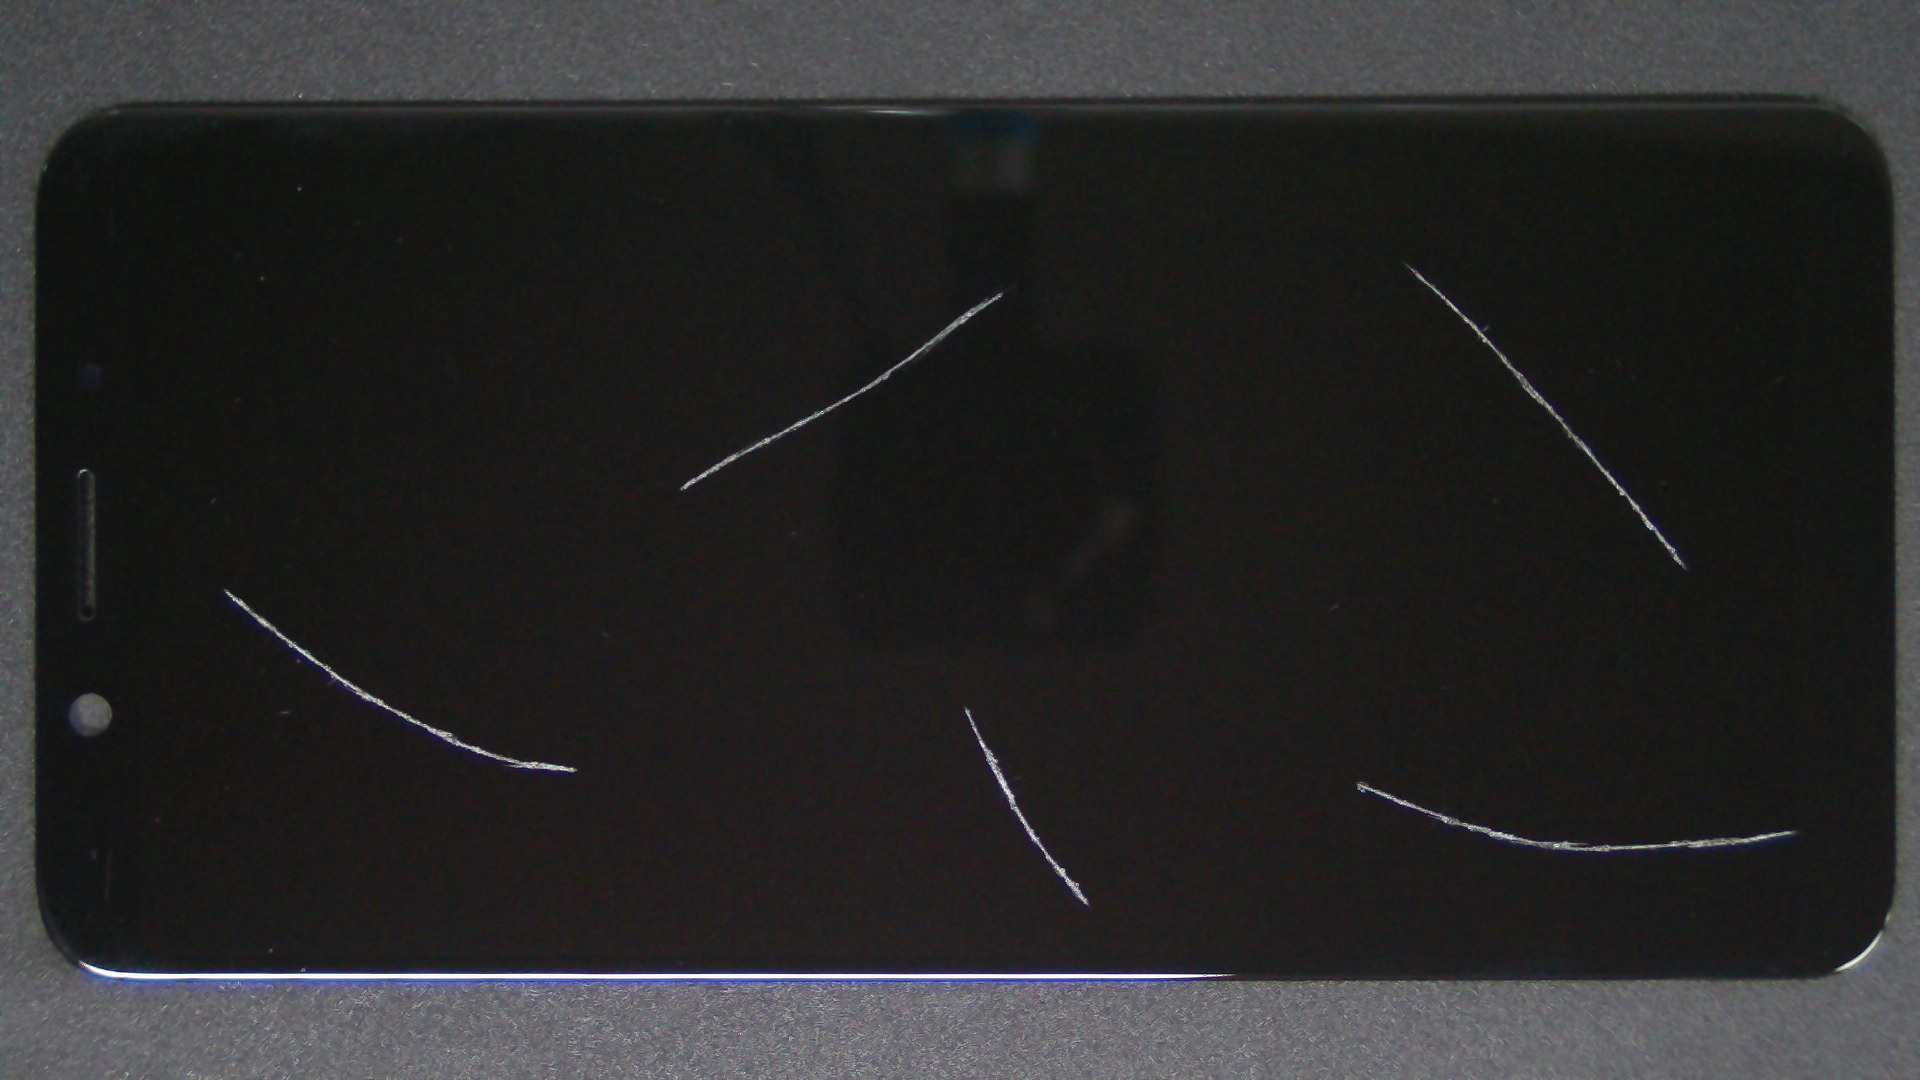defect: (1403, 260, 1683, 566), (223, 587, 578, 771), (680, 291, 1002, 491), (1357, 782, 1797, 851), (965, 708, 1088, 905)
